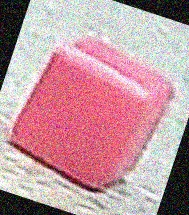orange_cube: (11, 35, 177, 199)
